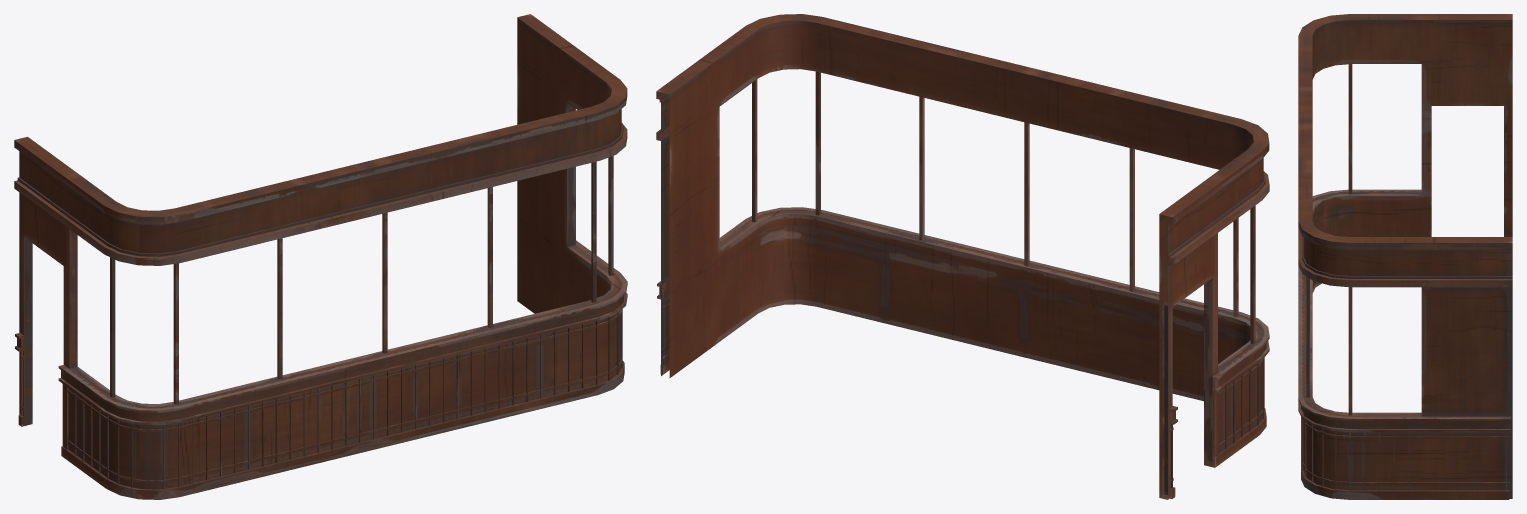
Rendered from Locket_WoodenFrame.fbx.
3 views of the same model, side by side, from view 1: azimuth 30°, elevation 25°; view 2: azimuth 150°, elevation 25°; view 3: azimuth 270°, elevation 25° (orthographic). The views are drawn at different scales.
Parts seen in each view (by area): view 1: Locket_WoodenFrame; view 2: Locket_WoodenFrame; view 3: Locket_WoodenFrame.
Part boxes in pixels (x1,y1,x2,y2): Locket_WoodenFrame: (14, 14, 627, 499); Locket_WoodenFrame: (656, 14, 1269, 499); Locket_WoodenFrame: (1298, 14, 1512, 499).
Size of the model in its own units: 6.05 by 2.39 by 3.17.
Materials: 1 (1 with a texture image).
